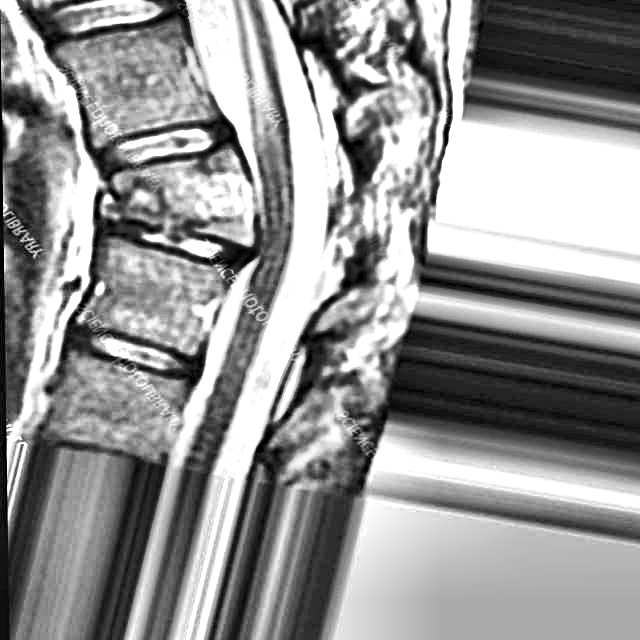Comminuted: (76, 167, 251, 273)
